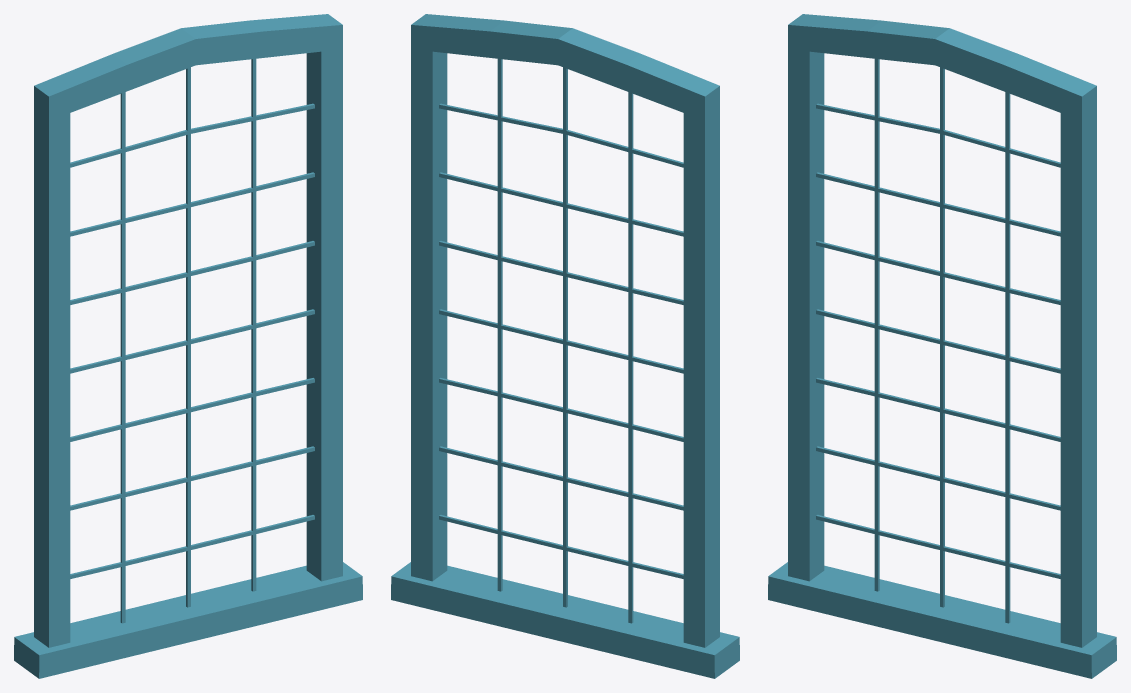
The model's file is Door.fbx.
3 renders of one model, left to right at view 1: azimuth 30°, elevation 25°; view 2: azimuth 150°, elevation 25°; view 3: azimuth 330°, elevation 25°, orthographic.
Parts seen in each view (by area): view 1: Cube.003; view 2: Cube.003; view 3: Cube.003.
Boxes of the visible parts, x1=… form: Cube.003: x1=14, y1=14, x2=362, y2=678; Cube.003: x1=391, y1=14, x2=739, y2=678; Cube.003: x1=768, y1=14, x2=1116, y2=678.
Size of the model in its own units: 219 by 385 by 29.28.
